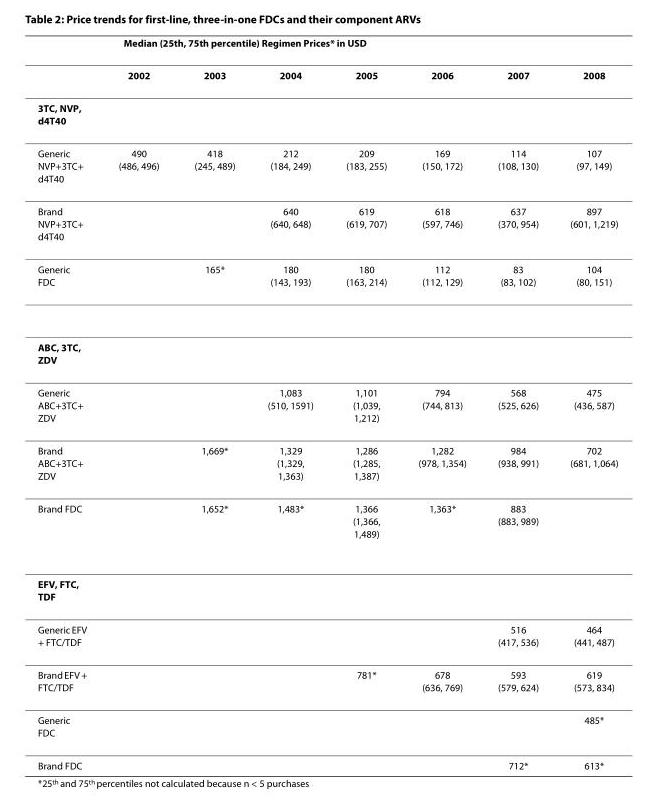table: (36, 36, 617, 770)
table column: (401, 36, 481, 770), (250, 36, 329, 770), (101, 36, 176, 770), (176, 36, 250, 770), (329, 36, 401, 770), (481, 36, 553, 770), (36, 36, 101, 770), (553, 36, 617, 770)
table column header: (36, 36, 617, 91)
table projected row header: (36, 314, 617, 376), (36, 558, 617, 612), (36, 91, 617, 136)
table row: (36, 491, 617, 558), (36, 252, 617, 314), (36, 314, 617, 376), (36, 136, 617, 194), (36, 194, 617, 252), (36, 433, 617, 491), (36, 376, 617, 433), (36, 558, 617, 612), (36, 612, 617, 658), (36, 91, 617, 136), (36, 658, 617, 703), (36, 703, 617, 748), (36, 58, 617, 91), (36, 36, 617, 58), (36, 748, 617, 770)
table spanning cell: (101, 36, 617, 58)
